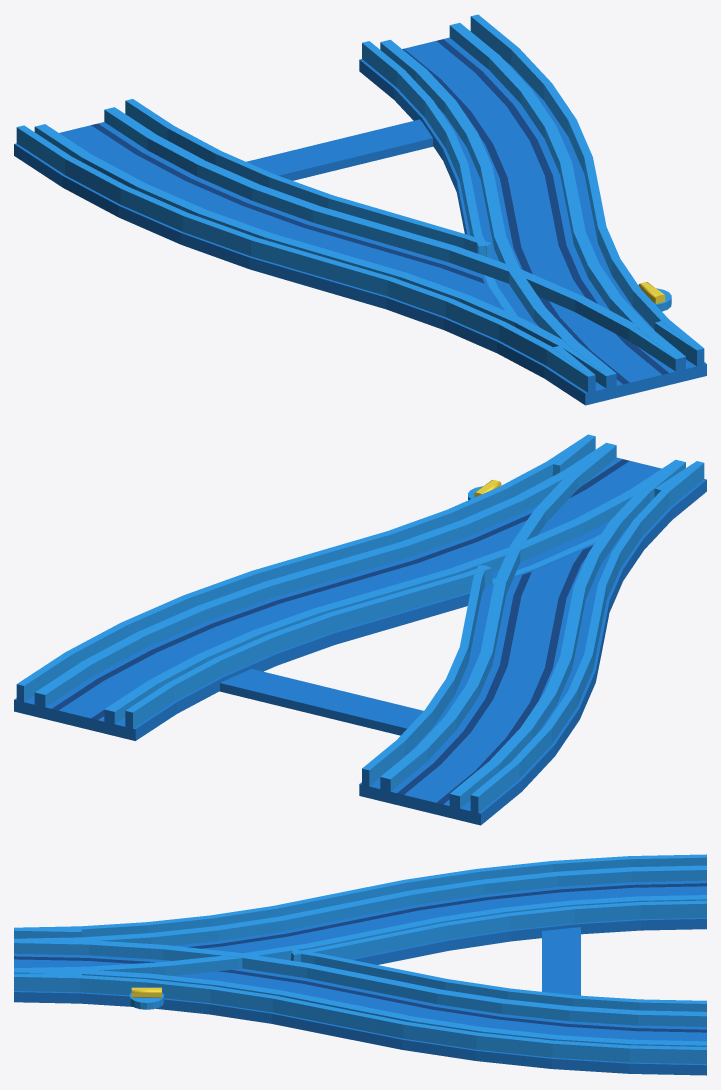
The model's file is Track_Point_Y.fbx.
3 views of the same model, one above another, from view 1: azimuth 30°, elevation 25°; view 2: azimuth 150°, elevation 25°; view 3: azimuth 270°, elevation 25° (orthographic). The views are drawn at different scales.
Parts seen in each view (by area): view 1: Rail left, Rail right, Molded brace; view 2: Rail right, Rail left, Molded brace; view 3: Rail right, Rail left, Molded brace, Lever base.
Part boxes in pixels (bbox=[...]): Rail left: bbox=[14, 99, 704, 405]; Rail right: bbox=[359, 14, 706, 393]; Molded brace: bbox=[246, 119, 432, 180]; Rail right: bbox=[14, 434, 706, 740]; Rail left: bbox=[359, 436, 706, 825]; Molded brace: bbox=[219, 669, 423, 735]; Rail right: bbox=[14, 927, 706, 1075]; Rail left: bbox=[17, 854, 706, 975]; Molded brace: bbox=[542, 927, 580, 995]; Lever base: bbox=[129, 992, 164, 1009].
Bounding box in the file's own units: 406 × 23.71 × 600.
